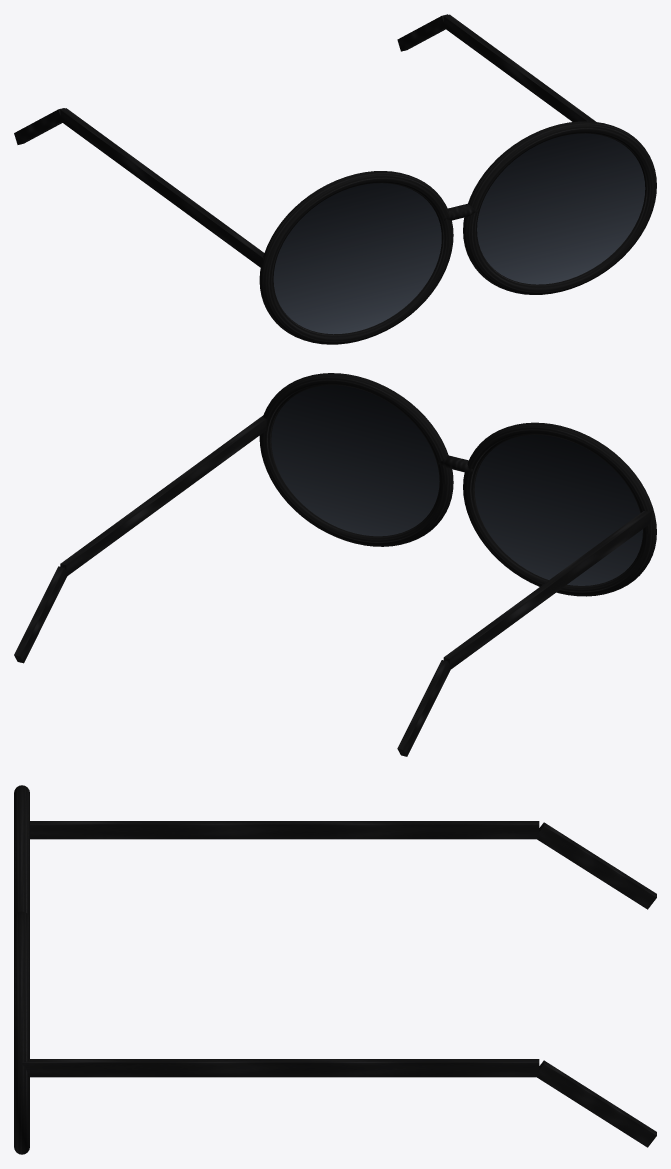
The model's file is lentes_sol.obj.
The picture shows the model from 3 angles, top to bottom: view 1: azimuth 30°, elevation 25°; view 2: azimuth 150°, elevation 25°; view 3: azimuth 270°, elevation 25°; orthographic projection. The views are drawn at different scales.
Visible parts, largest first — view 1: Lente_Izq, Lente_Der, Aro_Izq, Aro_Der, Patilla_Izq, Patilla_Der, Punta_Izq, Punta_Der; view 2: Lente_Der, Lente_Izq, Aro_Der, Aro_Izq, Patilla_Izq, Patilla_Der, Punta_Der, Punta_Izq; view 3: Patilla_Der, Patilla_Izq, Aro_Der, Punta_Der, Punta_Izq, Aro_Izq.
Boxes of the visible parts, x1,y1,x2,y2 form: Lente_Izq: [273, 183, 441, 334]; Lente_Der: [477, 133, 645, 284]; Aro_Izq: [259, 171, 453, 344]; Aro_Der: [463, 121, 656, 294]; Patilla_Izq: [60, 108, 264, 267]; Patilla_Der: [443, 14, 595, 121]; Punta_Izq: [14, 108, 64, 144]; Punta_Der: [397, 14, 447, 51]; Lente_Der: [271, 385, 439, 536]; Lente_Izq: [474, 435, 642, 585]; Aro_Der: [259, 373, 453, 546]; Aro_Izq: [463, 422, 656, 596]; Patilla_Izq: [443, 510, 652, 669]; Patilla_Der: [60, 415, 266, 575]; Punta_Der: [14, 566, 67, 663]; Punta_Izq: [397, 660, 451, 756]; Patilla_Der: [22, 1059, 539, 1077]; Patilla_Izq: [30, 821, 539, 839]; Aro_Der: [14, 911, 29, 1154]; Punta_Der: [535, 1060, 656, 1147]; Punta_Izq: [535, 822, 656, 909]; Aro_Izq: [14, 785, 29, 918].
Bounding box in the file's own units: 5.06 × 2.03 × 5.59.
Materials: 2 (2 with a texture image).
